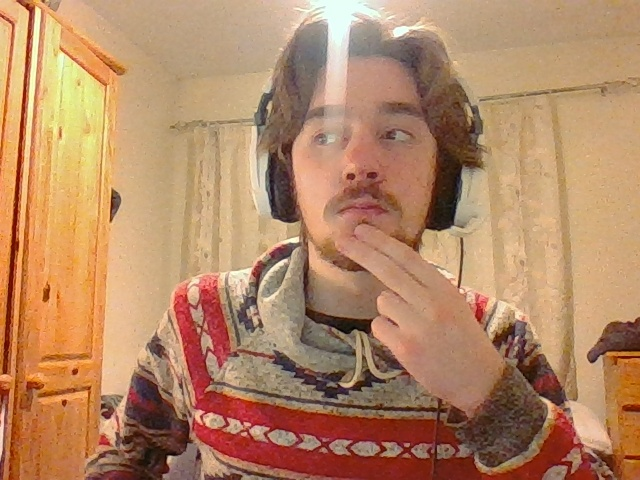afternoon: (329, 221, 507, 408)
